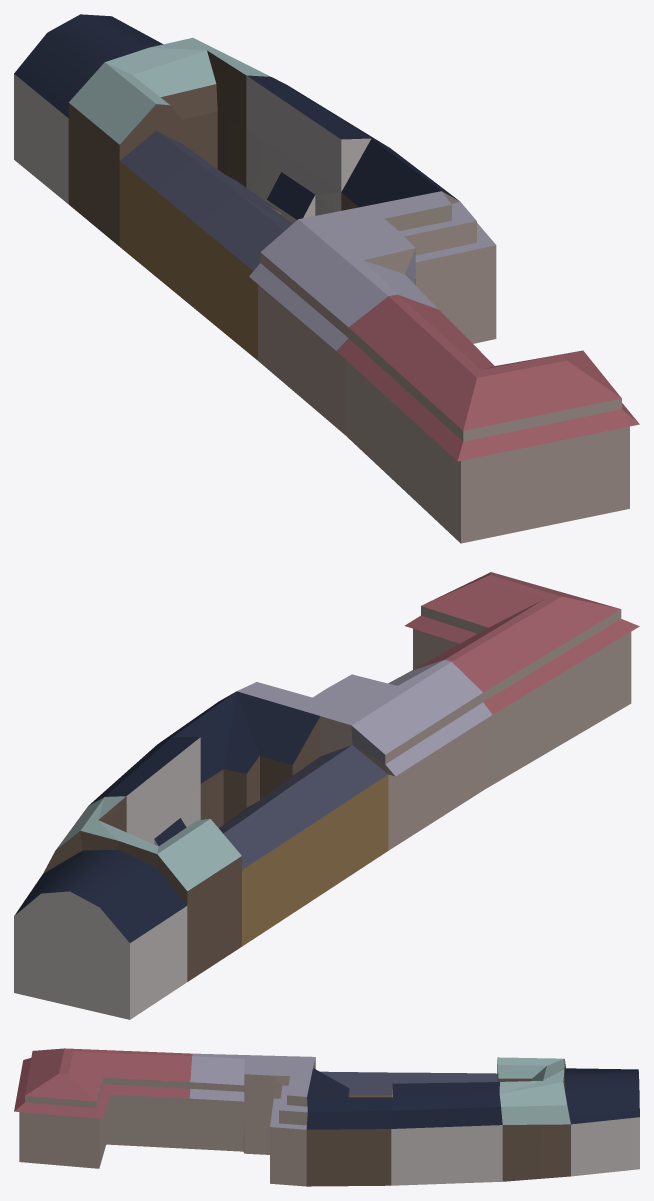
The model's file is Building_03.fbx.
The picture shows the model from 3 angles, top to bottom: view 1: azimuth 30°, elevation 25°; view 2: azimuth 150°, elevation 25°; view 3: azimuth 270°, elevation 25°; orthographic projection. The views are drawn at different scales.
Parts seen in each view (by area): view 1: Building_03; view 2: Building_03; view 3: Building_03.
Boxes of the visible parts, x1,y1,x2,y2 form: Building_03: [14, 14, 639, 543]; Building_03: [14, 572, 639, 1019]; Building_03: [14, 1048, 639, 1186].
Size of the model in its own units: 30.5 by 16.06 by 108.
